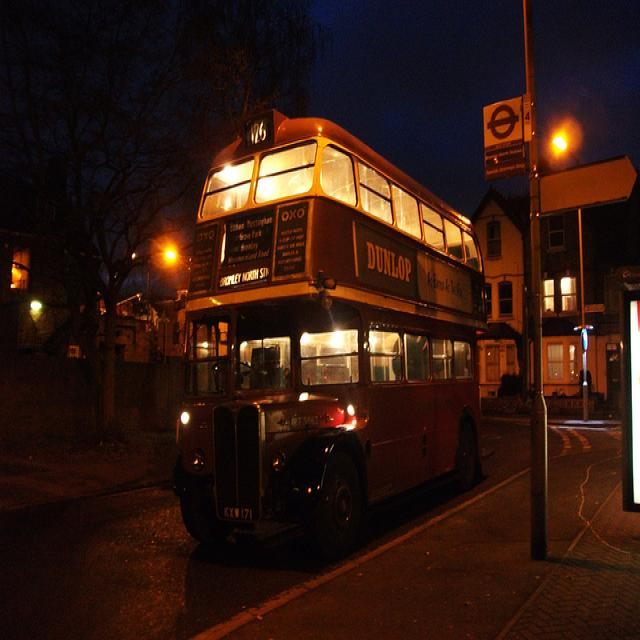Bus: (183, 96, 514, 591)
